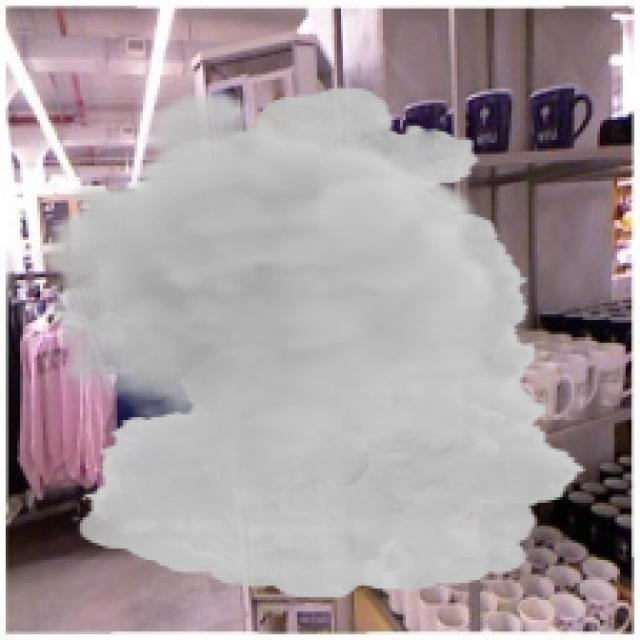Smoke: (34, 85, 589, 600)
